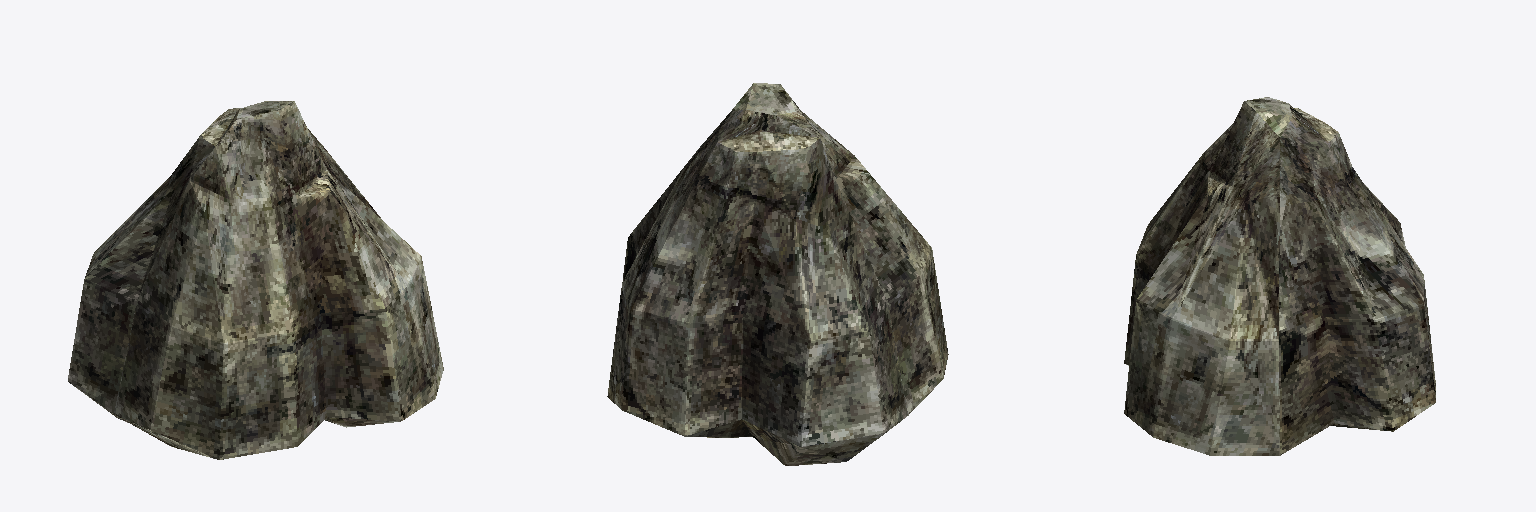
3 renders of one model, left to right at view 1: azimuth 30°, elevation 25°; view 2: azimuth 150°, elevation 25°; view 3: azimuth 270°, elevation 25°, orthographic.
Bounding box in the file's own units: 2.94 × 2.9 × 2.6.
1 materials, 1 textured.